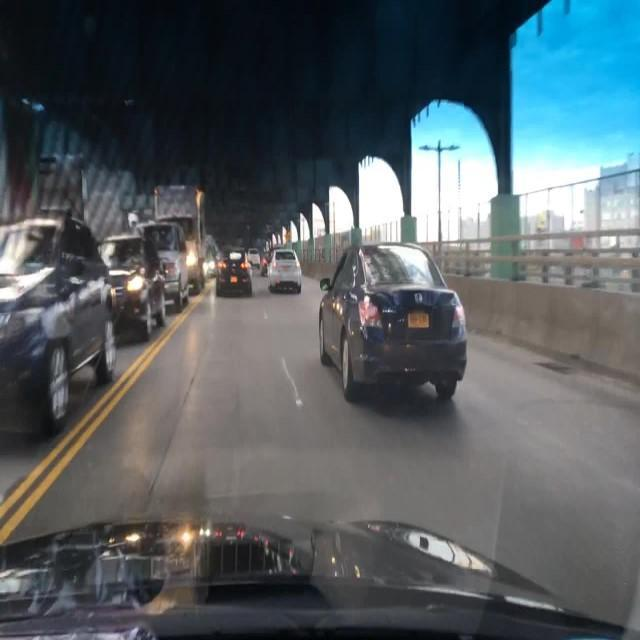normal: (0, 214, 116, 438), (322, 239, 473, 401), (99, 234, 172, 339), (267, 248, 303, 295), (213, 257, 252, 297)
